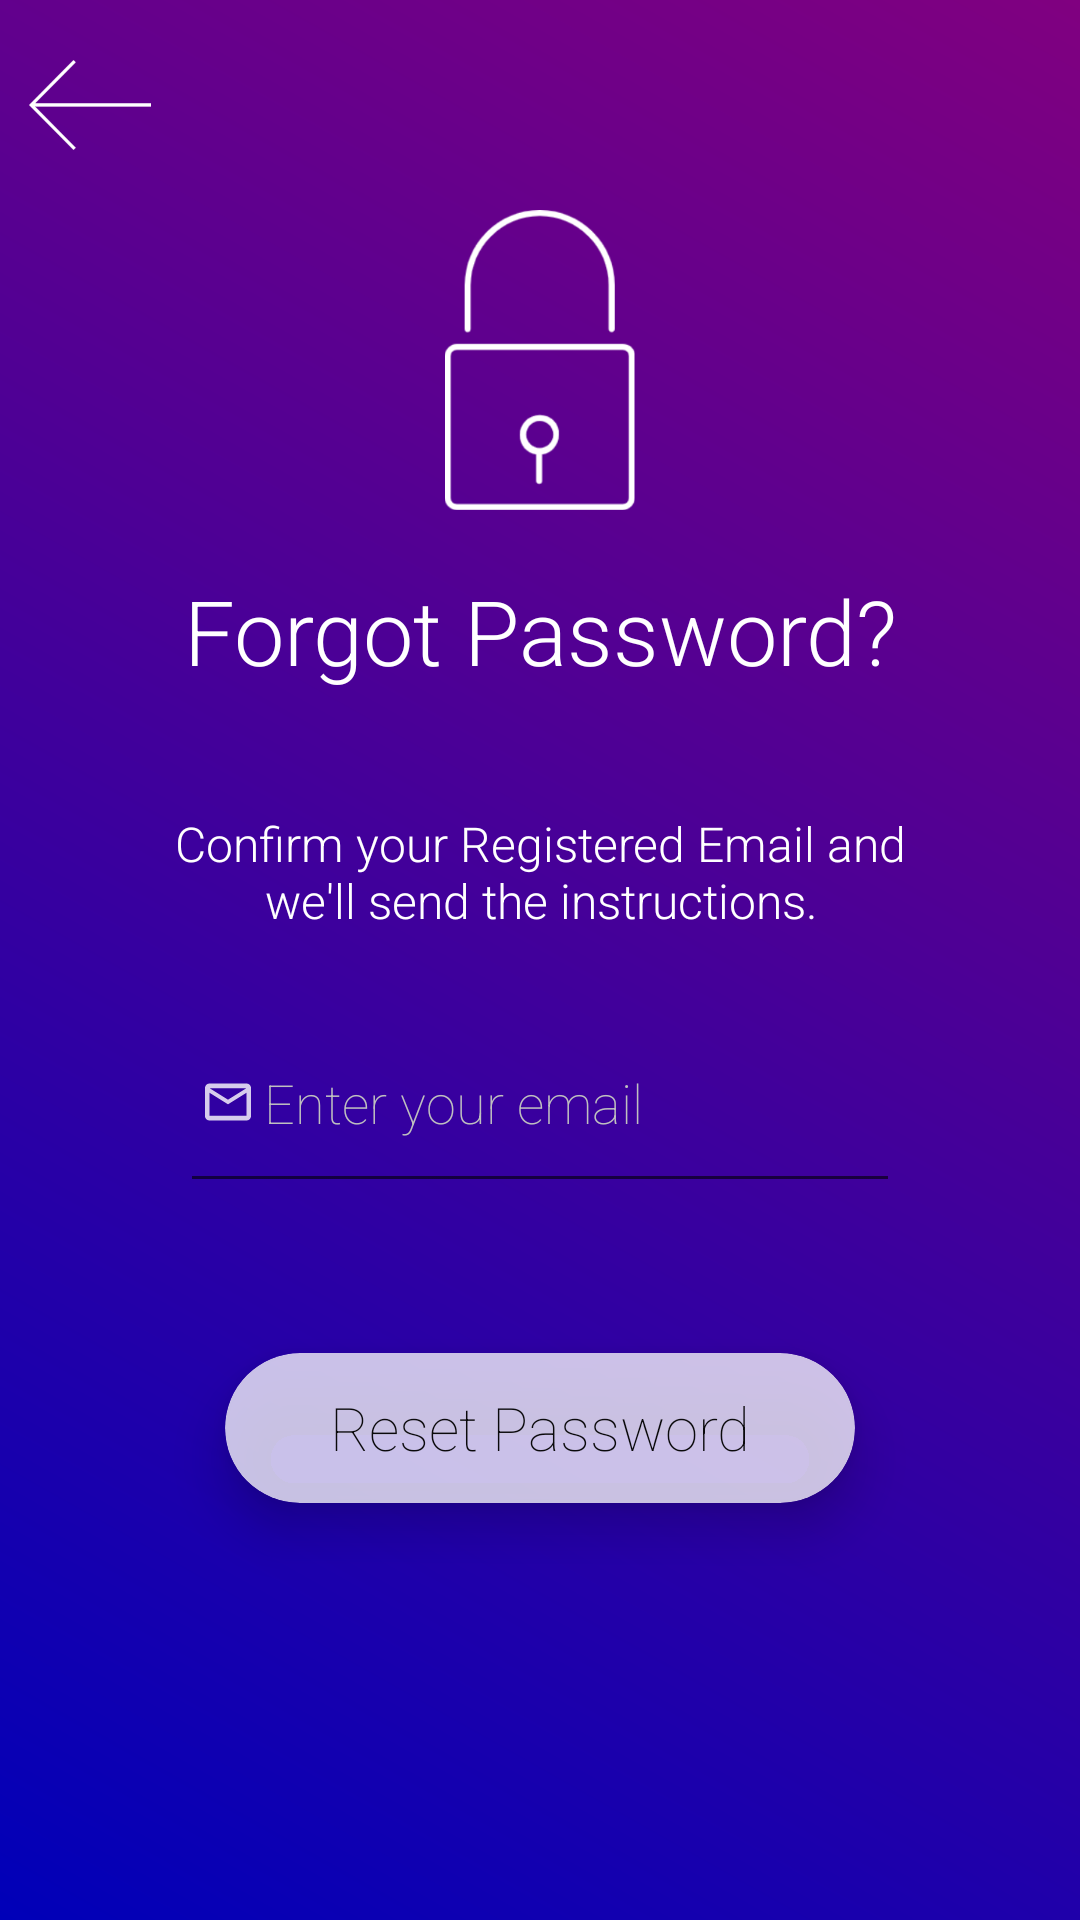

Named icons in this screenshot (1080px×1920px) and their bounding boxes, (x1, y1, x2, y2):
arrow: (29, 60, 151, 150)
lock: (445, 210, 635, 510)
